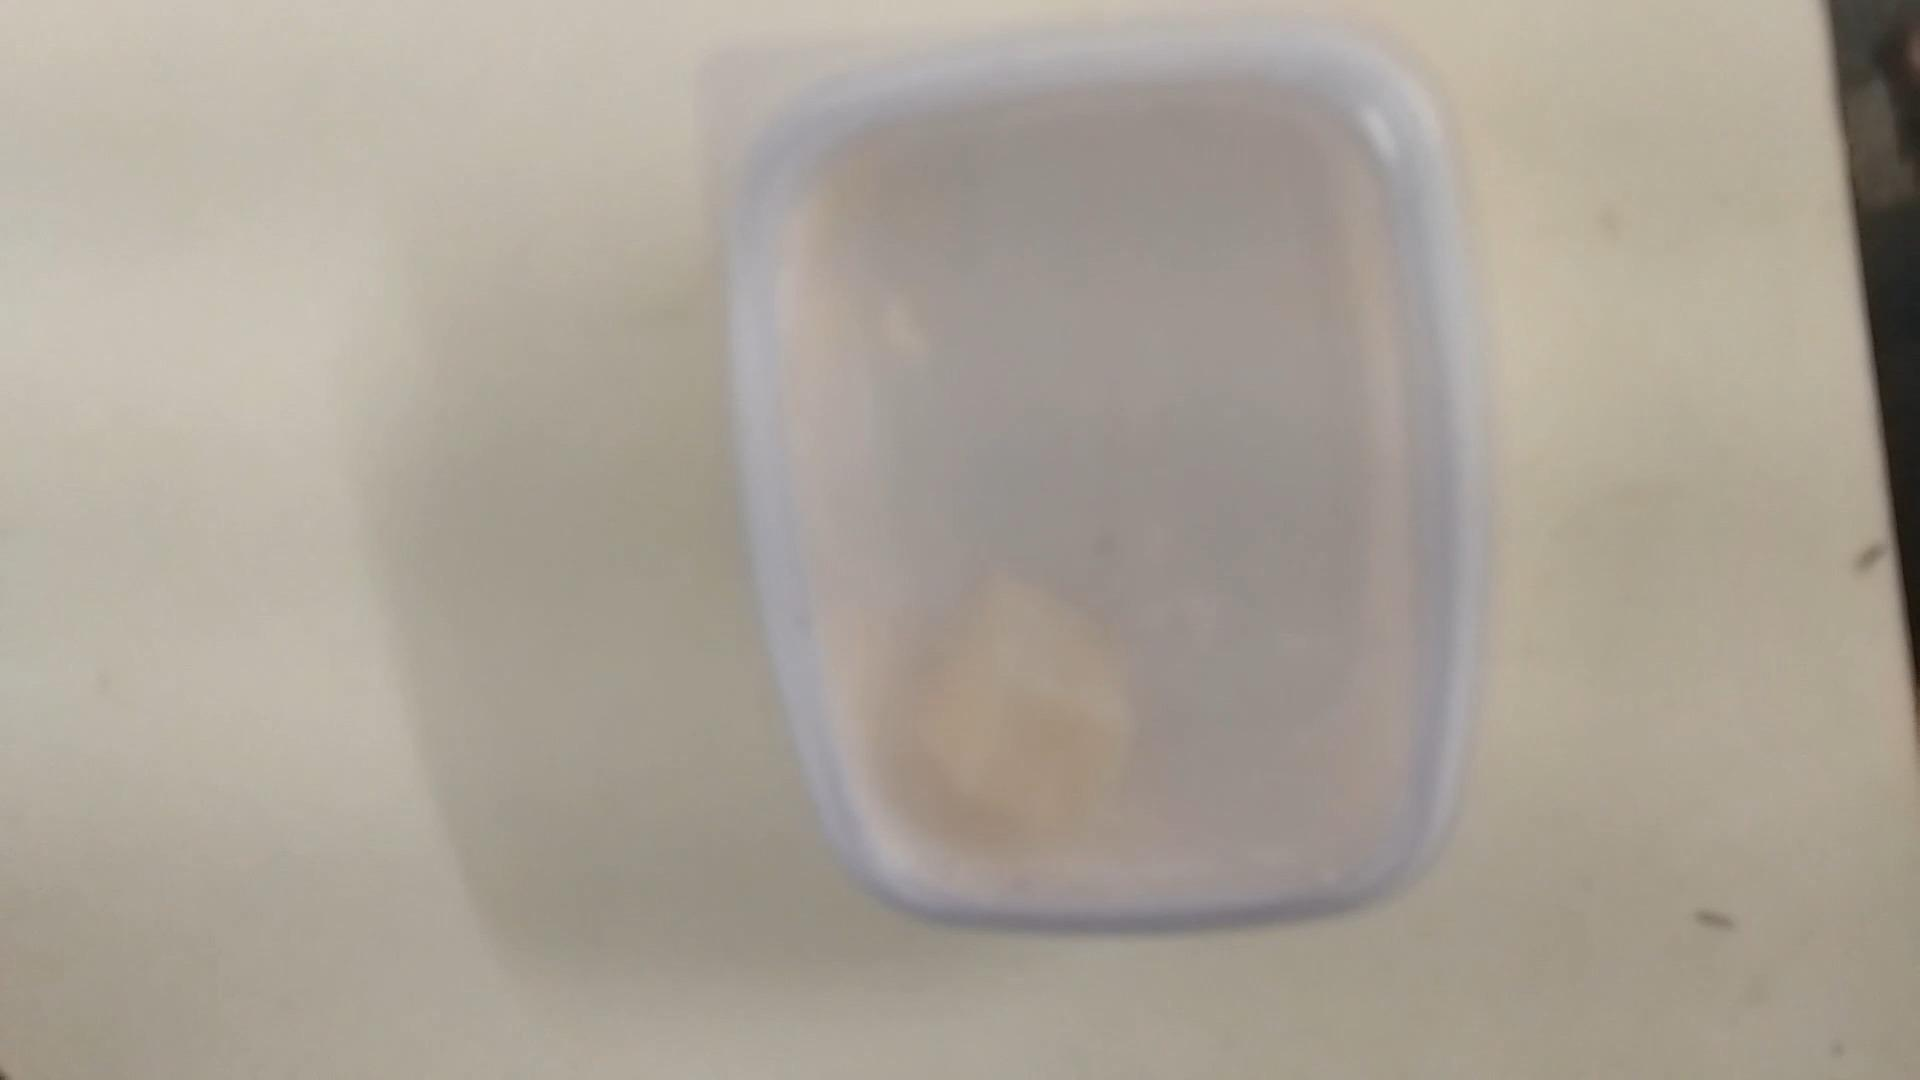butter: (729, 28, 1477, 951)
